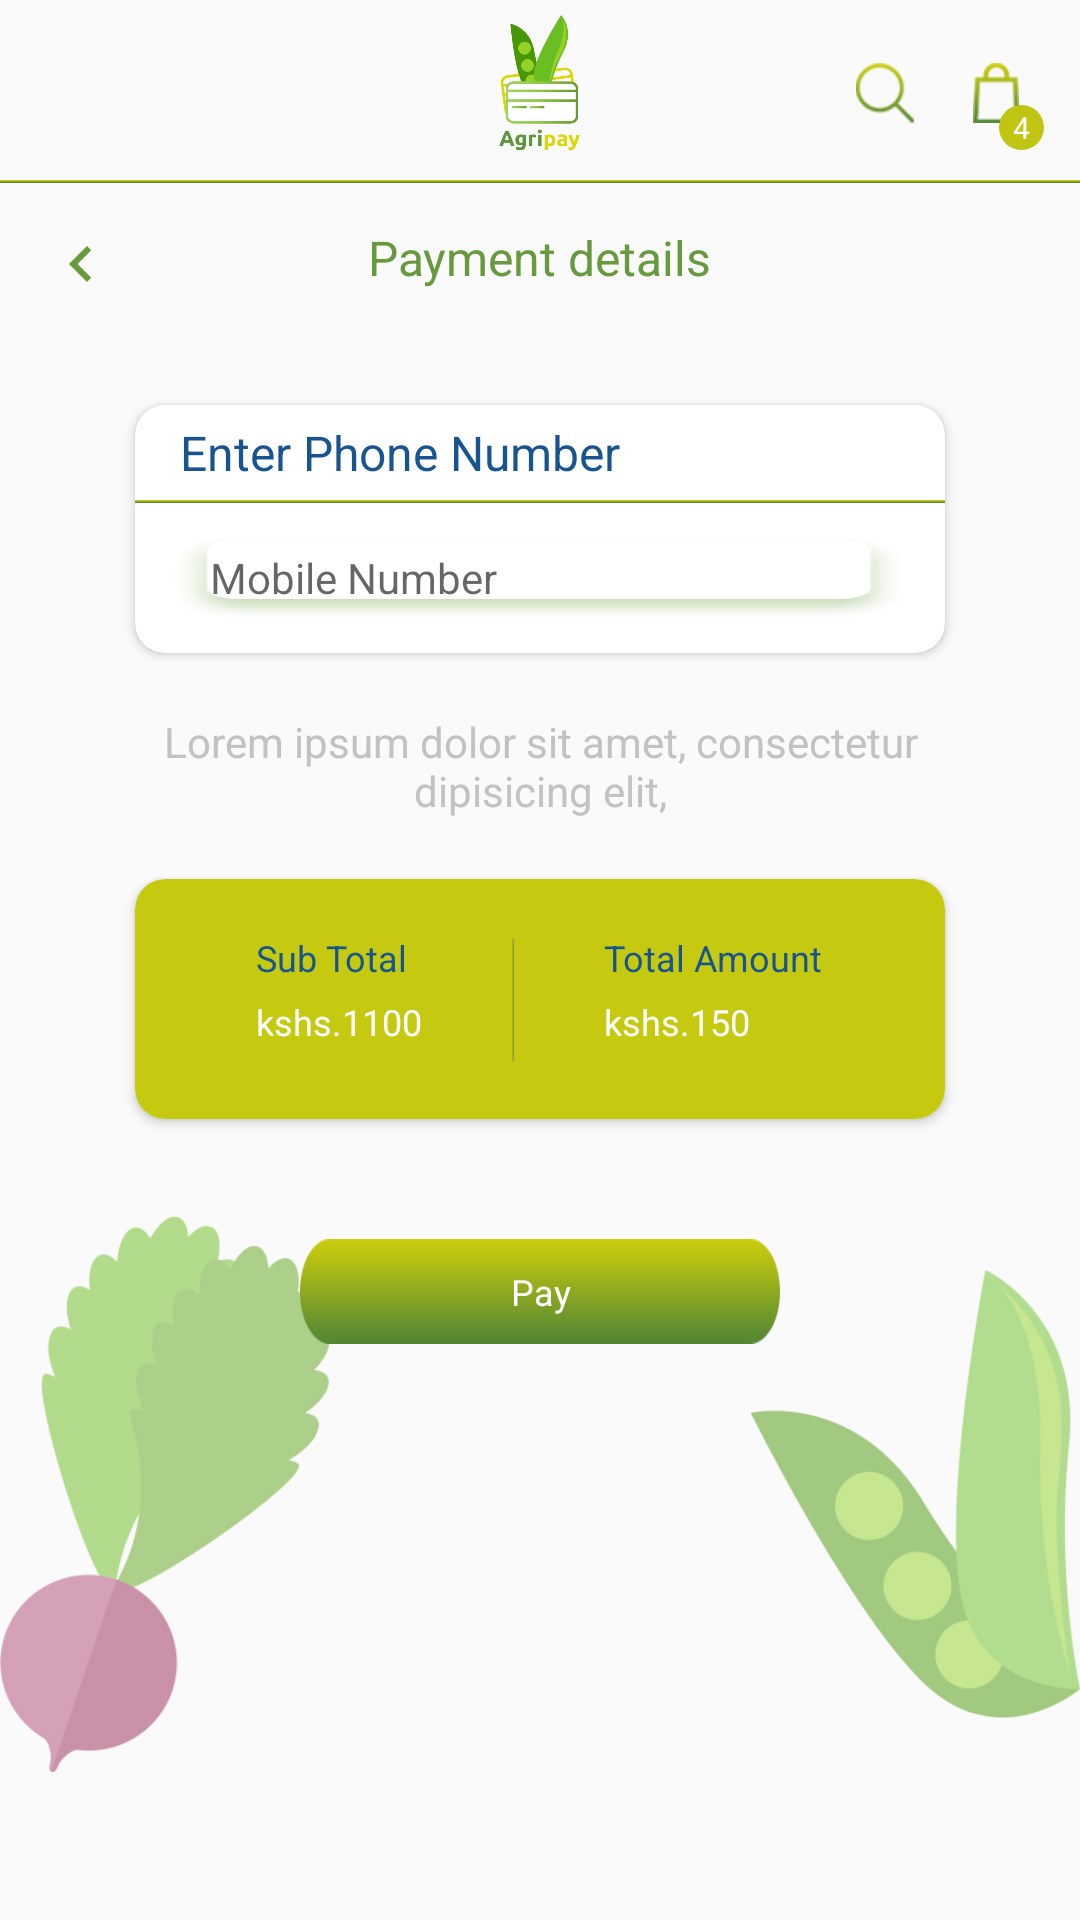

Point at icon controls on the screen. Image size 1080×1920, points as (x=x, y=y).
chevron left: (x=80, y=264)
search: (x=885, y=93)
shop cart: (x=999, y=93)
